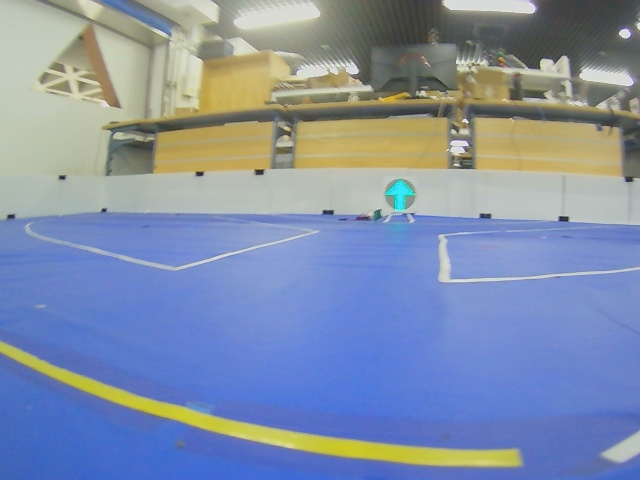straight_green: (385, 179, 416, 212)
